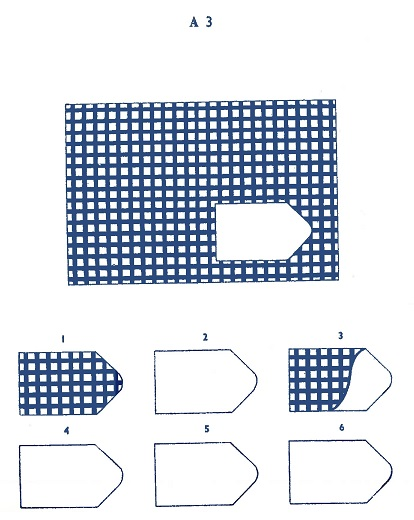Array 1: (14, 331, 126, 418)
Array 2: (149, 330, 259, 418)
Array 3: (281, 329, 396, 416)
Array 4: (16, 421, 127, 512)
Array 5: (150, 420, 262, 512)
Array 6: (281, 419, 397, 511)
Matrix: (61, 96, 346, 288)
Matrix Unknown: (212, 199, 314, 262)
